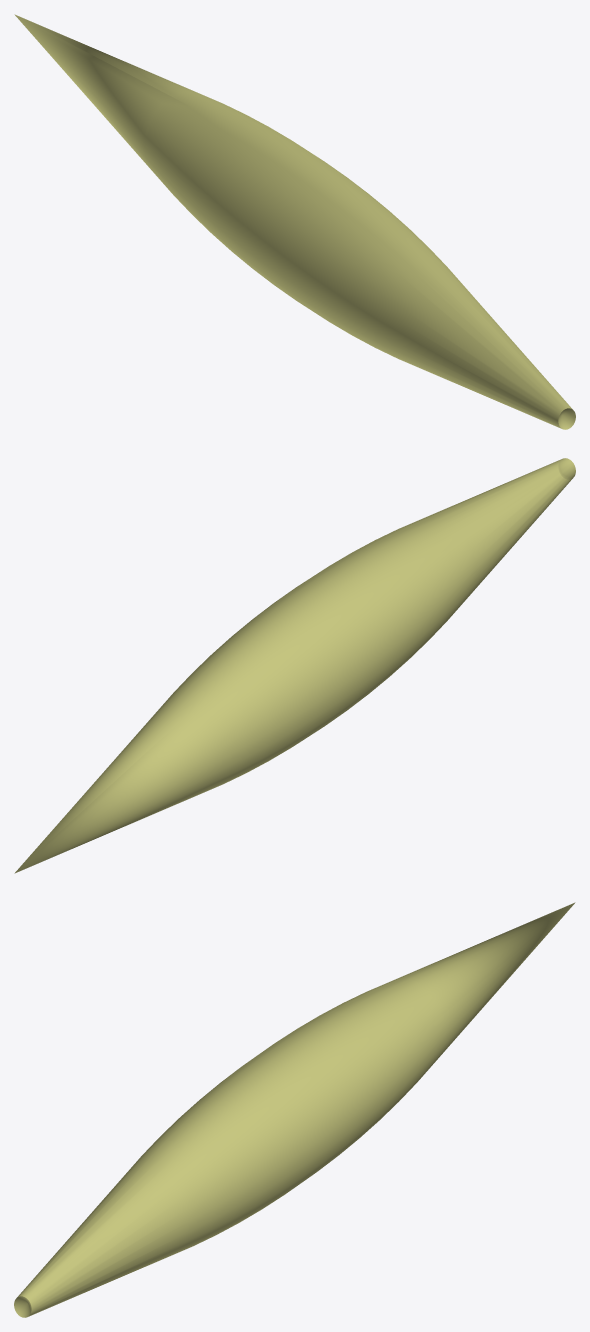
File: Flamme canon.dae
The picture shows the model from 3 angles, top to bottom: view 1: azimuth 30°, elevation 25°; view 2: azimuth 150°, elevation 25°; view 3: azimuth 330°, elevation 25°; orthographic projection.
Visible parts, largest first — view 1: SketchUp; view 2: SketchUp; view 3: SketchUp.
Part boxes in pixels (box(x1,y1,x2,y2)): SketchUp: box(14, 14, 575, 429); SketchUp: box(14, 458, 575, 873); SketchUp: box(14, 902, 575, 1317).
Bounding box in the file's own units: 15.38 × 141 × 17.59.
